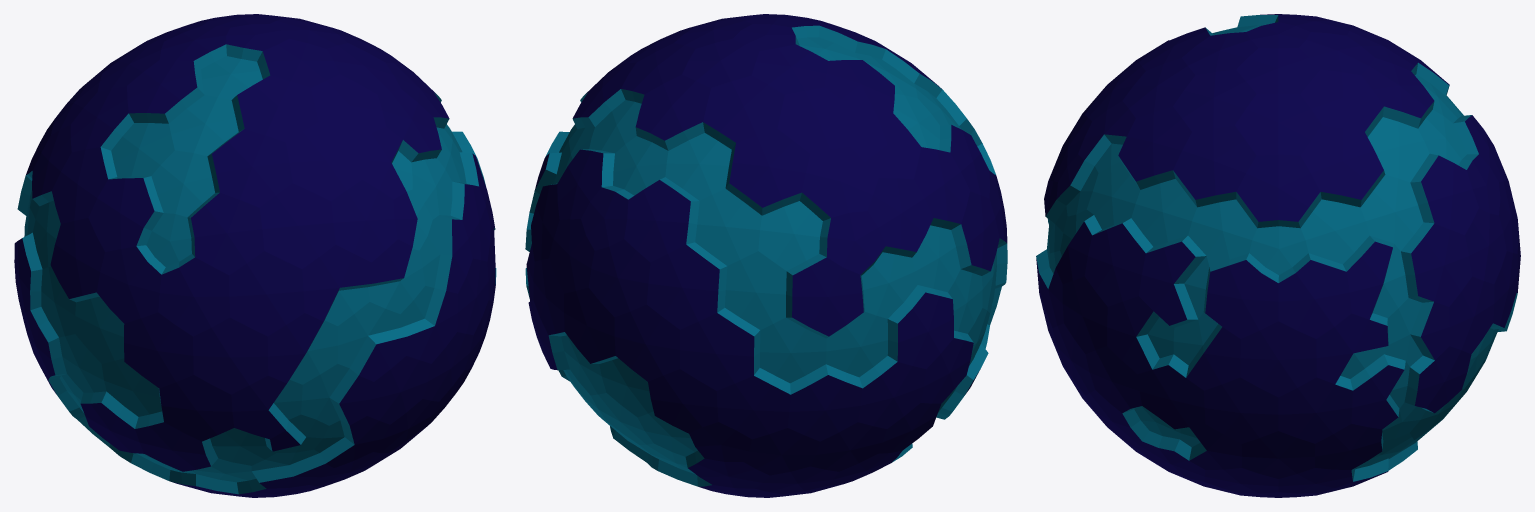
Rendered from Planet5Evo3.glb.
3 renders of one model, left to right at view 1: azimuth 30°, elevation 25°; view 2: azimuth 150°, elevation 25°; view 3: azimuth 270°, elevation 25°, orthographic.
Parts seen in each view (by area): view 1: Icosphere.038; view 2: Icosphere.038; view 3: Icosphere.038.
Part boxes in pixels (<box>): Icosphere.038: <box>14,14,496,497</box>; Icosphere.038: <box>525,14,1007,497</box>; Icosphere.038: <box>1036,14,1520,497</box>.
Size of the model in its own units: 1.8 by 1.83 by 1.81.
